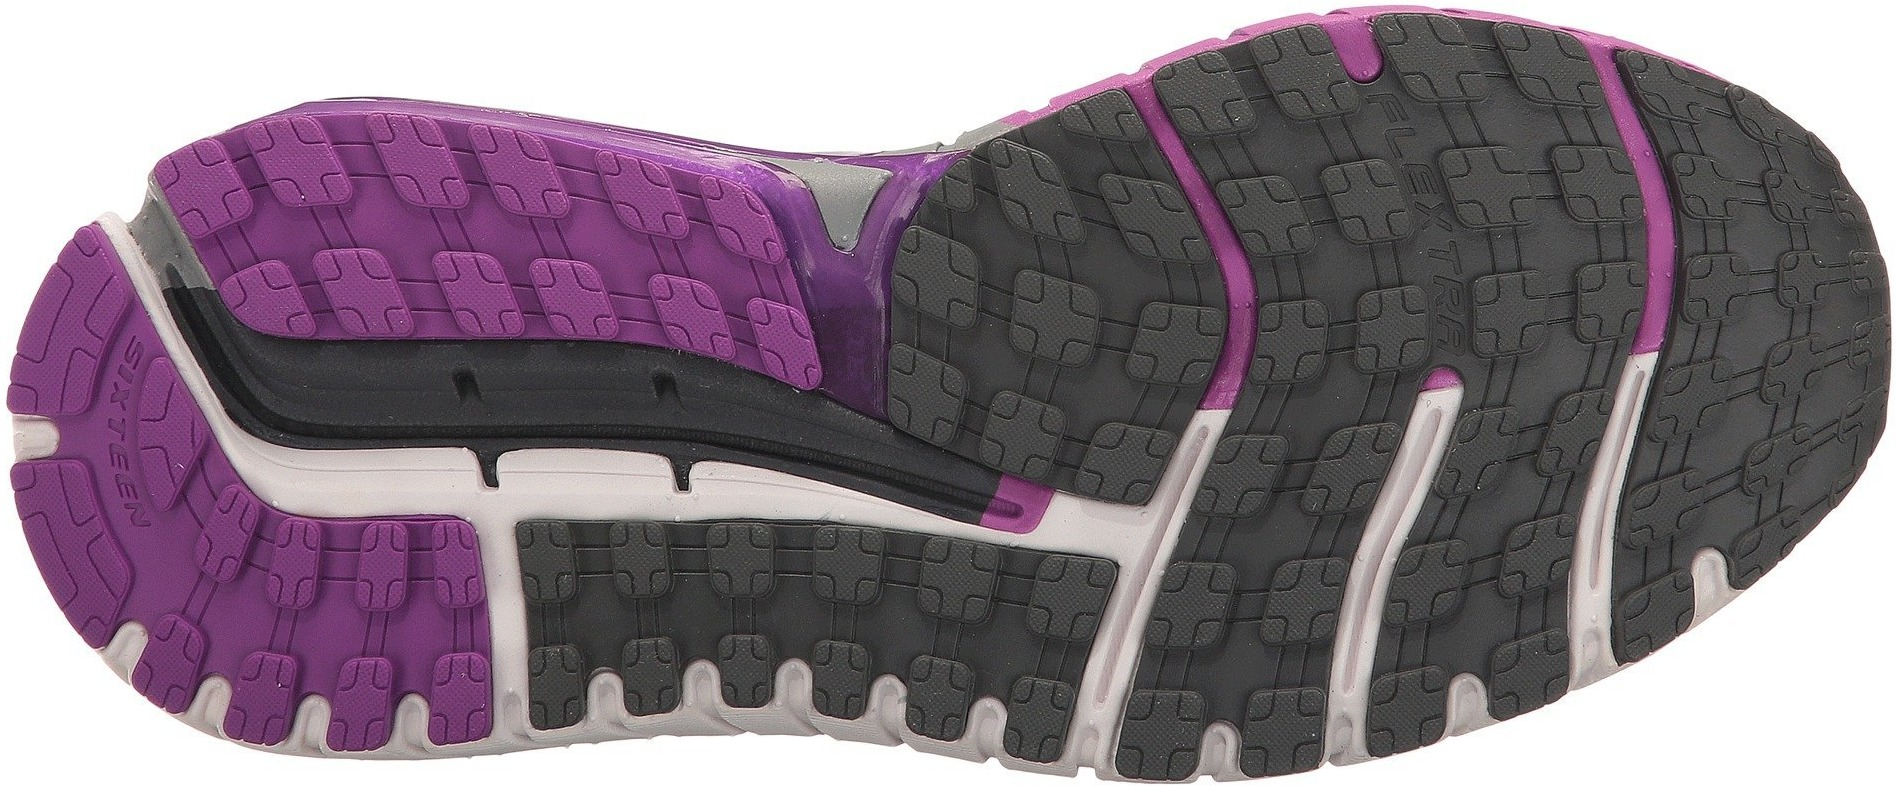line: (1106, 397, 1414, 669), (589, 493, 898, 759), (559, 128, 840, 404)
quad: (1106, 397, 1414, 669), (589, 493, 898, 759), (559, 128, 840, 404), (952, 164, 1168, 418), (337, 106, 543, 328), (319, 505, 505, 709), (1450, 149, 1631, 357), (1674, 248, 1868, 438), (1238, 131, 1430, 319), (65, 314, 220, 532)
text: (65, 314, 220, 532)
triangle: (65, 314, 220, 532)
